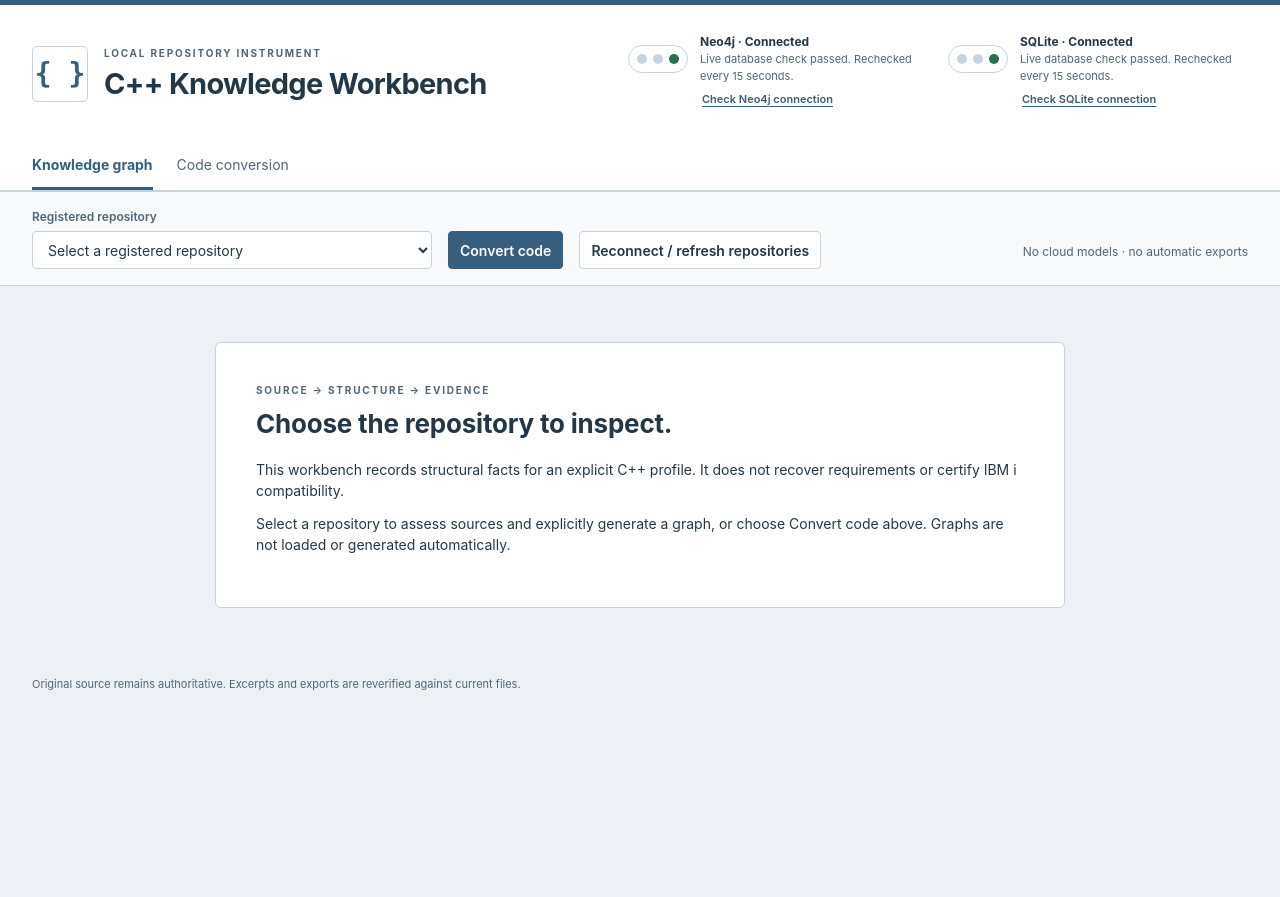
Test: repository workflow › offers conversion from the initial page without generating a graph
The image size is (1280, 897).
Click the button "Convert code" at (506, 250), box [448,231,563,269]
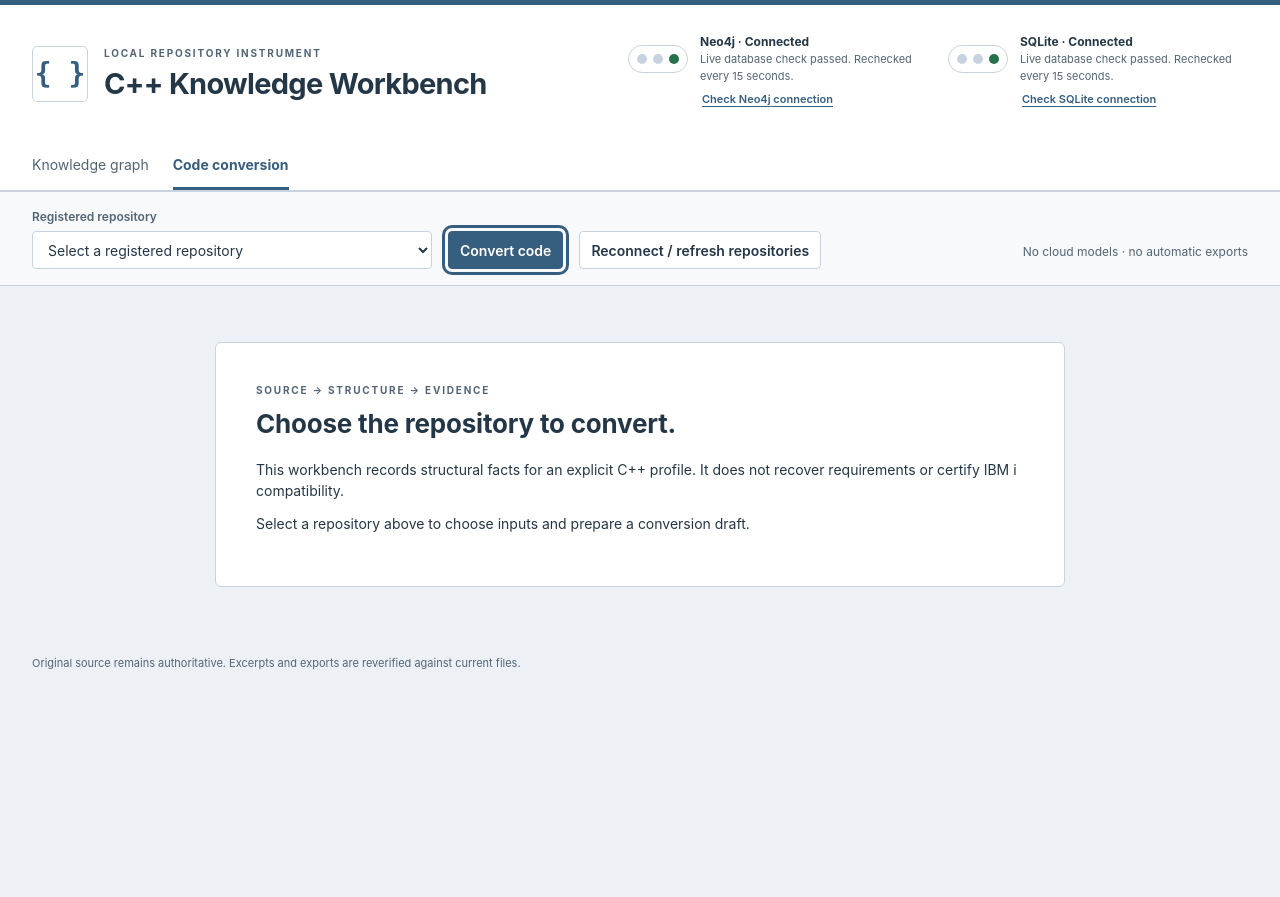
Result: the heading "Choose the repository to convert." is shown at [256,408,676,439]
Select "First repo · registered" in the dropdown labelled "Registered repository" at (232, 250), box [32,231,432,269]
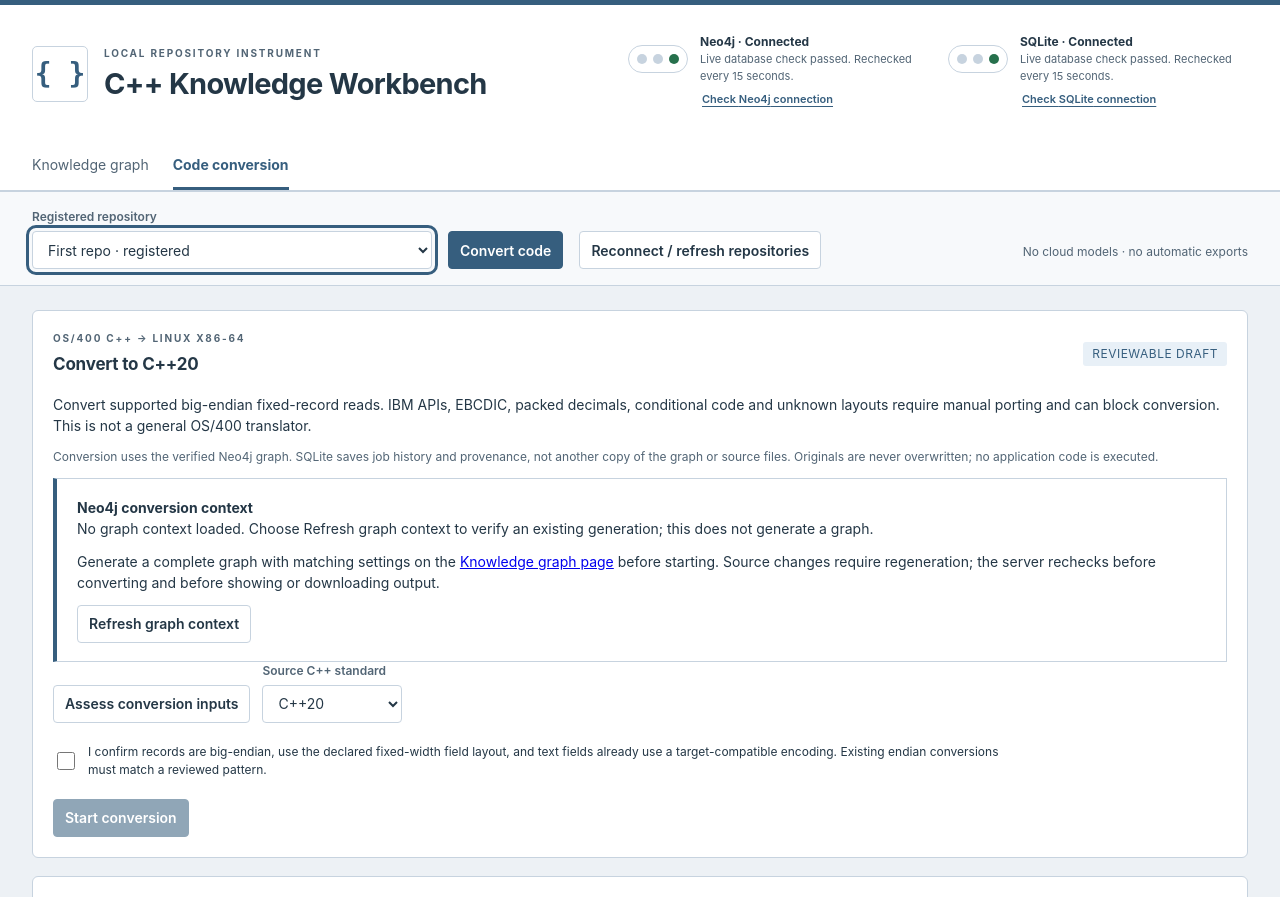
Result: the heading "Convert to C++20" is shown at [53,354,199,374]
Result: the button "Start conversion" is disabled at [53,798,189,836]
